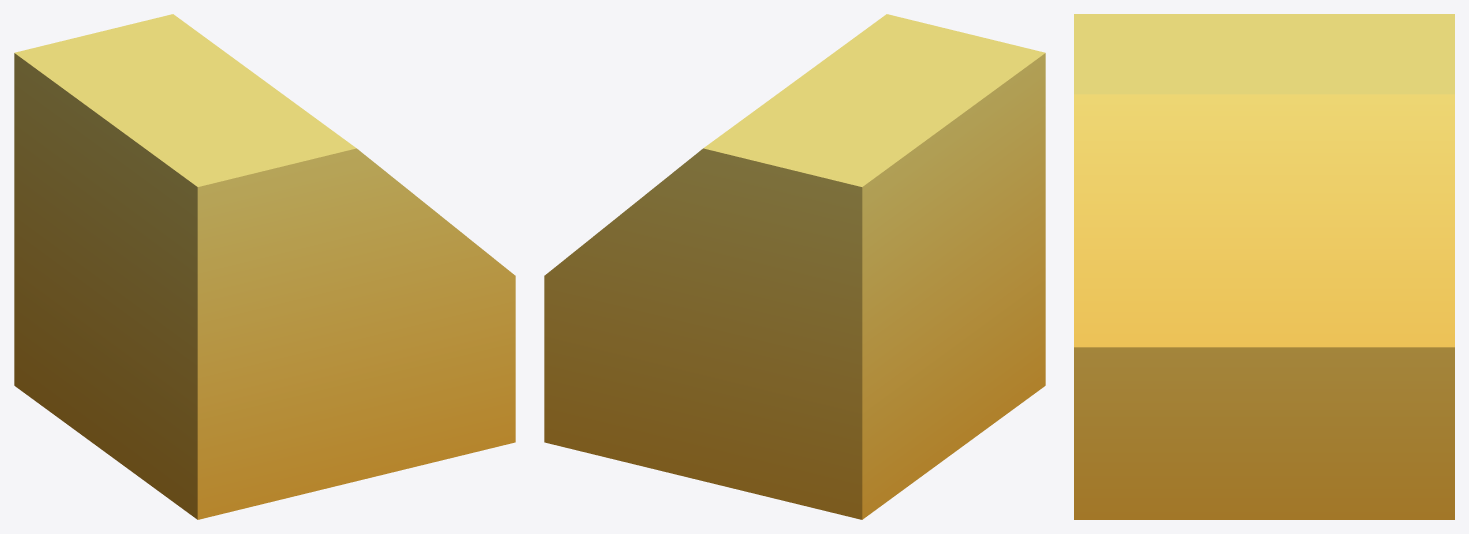
File: Primitive_Slope_Half.glb
3 views of the same model, side by side, from view 1: azimuth 30°, elevation 25°; view 2: azimuth 150°, elevation 25°; view 3: azimuth 270°, elevation 25° (orthographic). The views are drawn at different scales.
Parts seen in each view (by area): view 1: Primitive_Slope_Half; view 2: Primitive_Slope_Half; view 3: Primitive_Slope_Half.
Part boxes in pixels (x1,y1,x2,y2): Primitive_Slope_Half: (14, 14, 515, 519); Primitive_Slope_Half: (544, 14, 1045, 519); Primitive_Slope_Half: (1074, 14, 1454, 519).
Bounding box in the file's own units: 4 × 4 × 4.
1 material, 1 textured.
